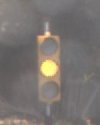Yellow: (35, 21, 66, 113)
